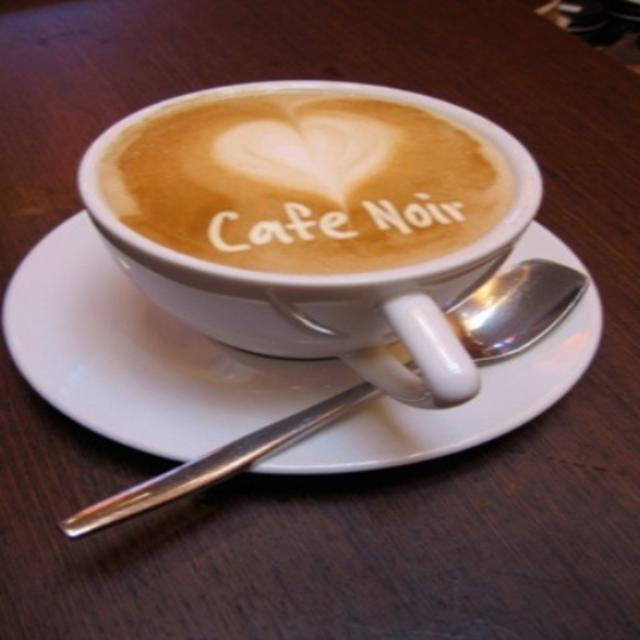latte: (76, 75, 546, 286)
